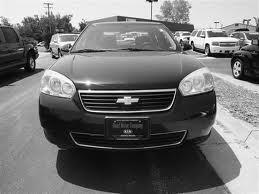car: (37, 22, 219, 152)
